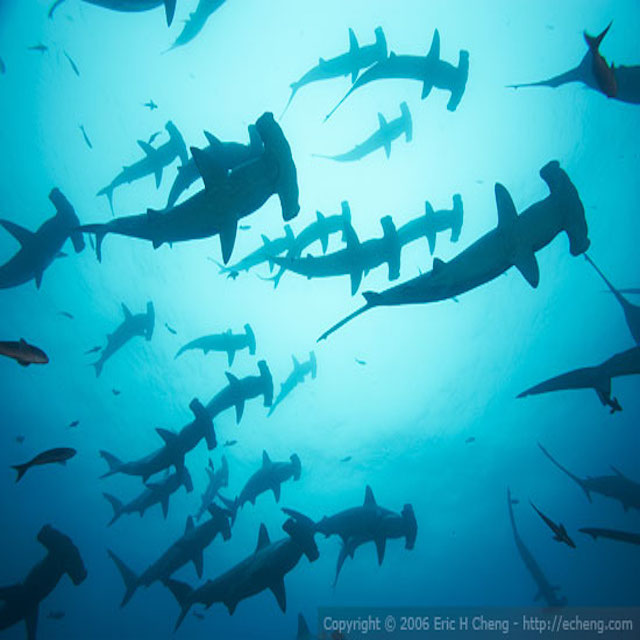hammerhead: (189, 130, 317, 219), (40, 183, 122, 283), (528, 158, 598, 272), (336, 215, 424, 274), (431, 48, 487, 127), (425, 196, 494, 259), (123, 292, 187, 355), (147, 111, 210, 170), (38, 524, 100, 583), (174, 398, 241, 452), (377, 106, 453, 153), (312, 202, 386, 249), (358, 24, 416, 77), (275, 516, 333, 568), (235, 368, 289, 412), (265, 454, 327, 491), (387, 502, 434, 549), (268, 220, 312, 260), (162, 454, 205, 493), (298, 352, 341, 390), (193, 508, 236, 544), (235, 325, 276, 361)
